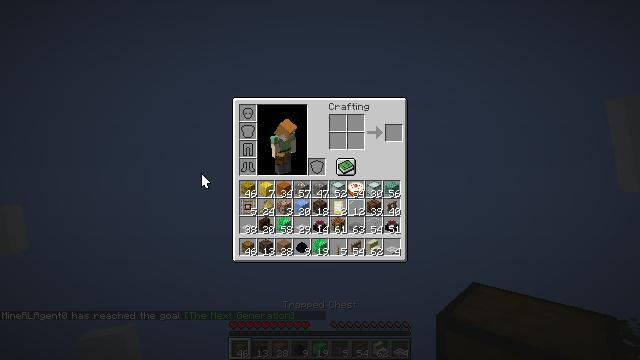cursor: (173, 201, 189, 211)
